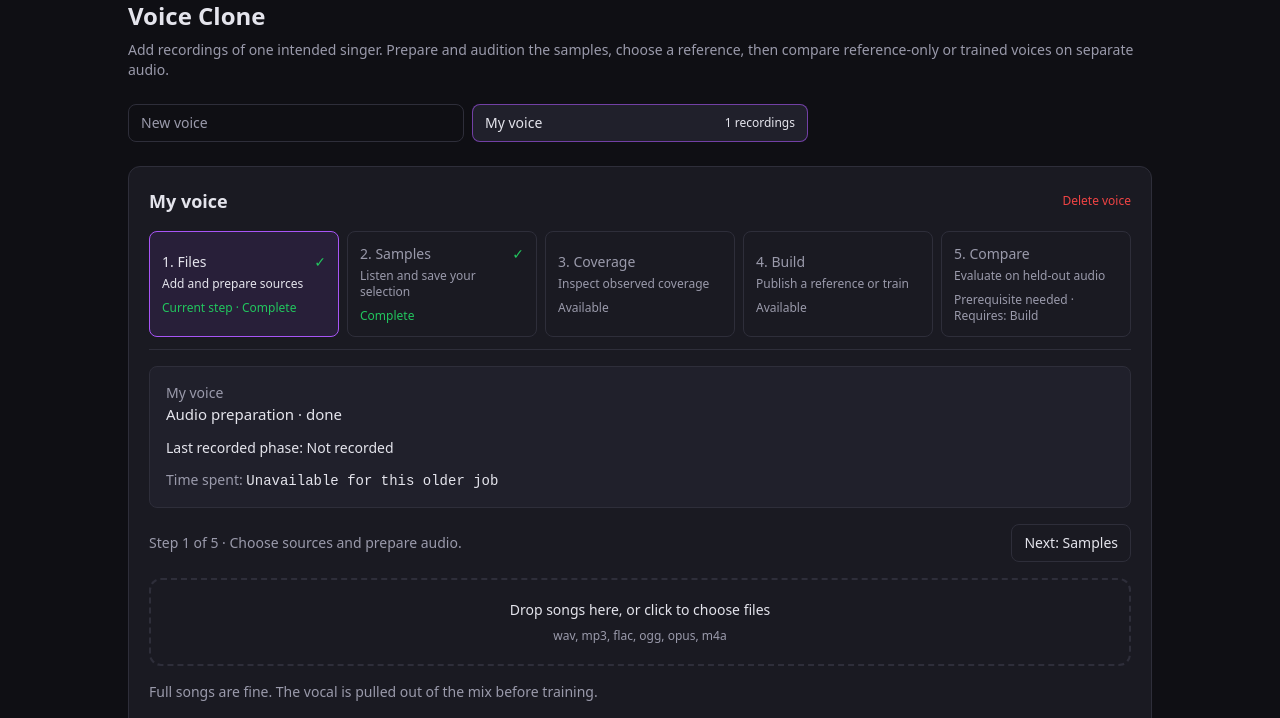
Test: requires saving draft selection before coverage and current-reference comparison
Click the tab "2. Samples ✓ Listen and save your selection Complete". click: (442, 284)
box: [347,231,537,337]
(page scrolled)
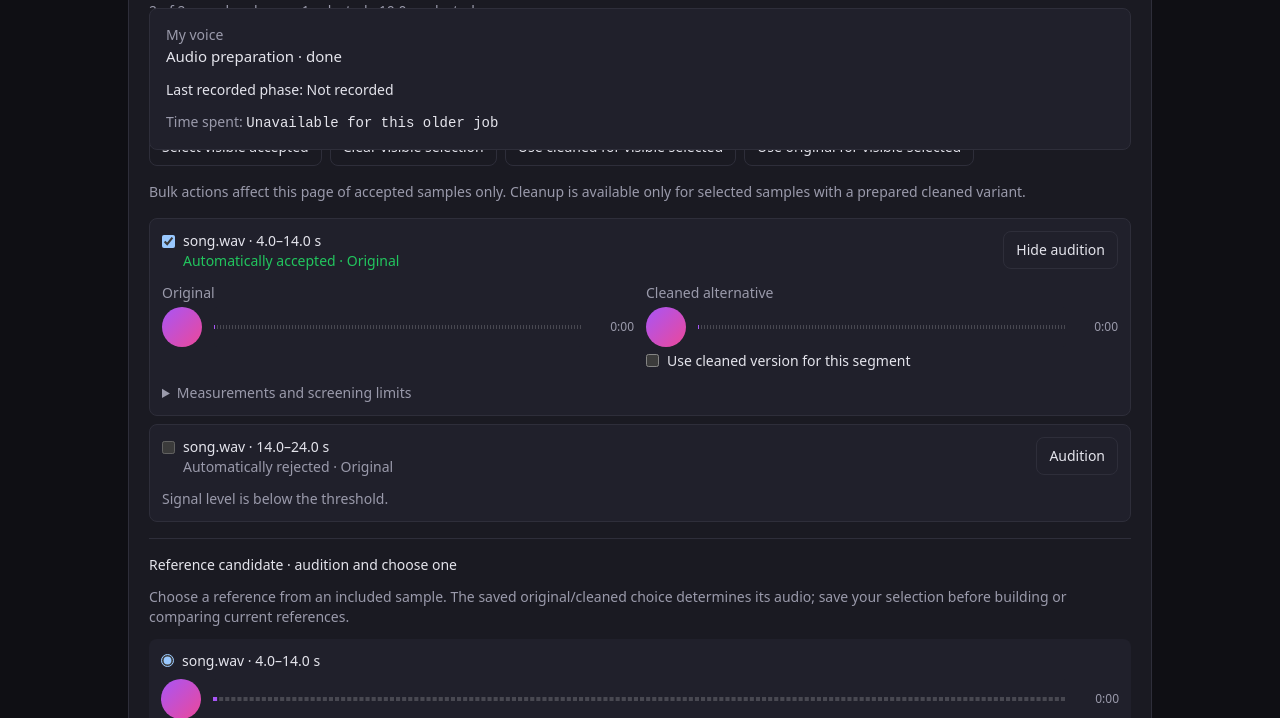
Click the checkbox labelled "Use cleaned version for this segment". click: (652, 360)
box: [646,354,659,367]
(page scrolled)
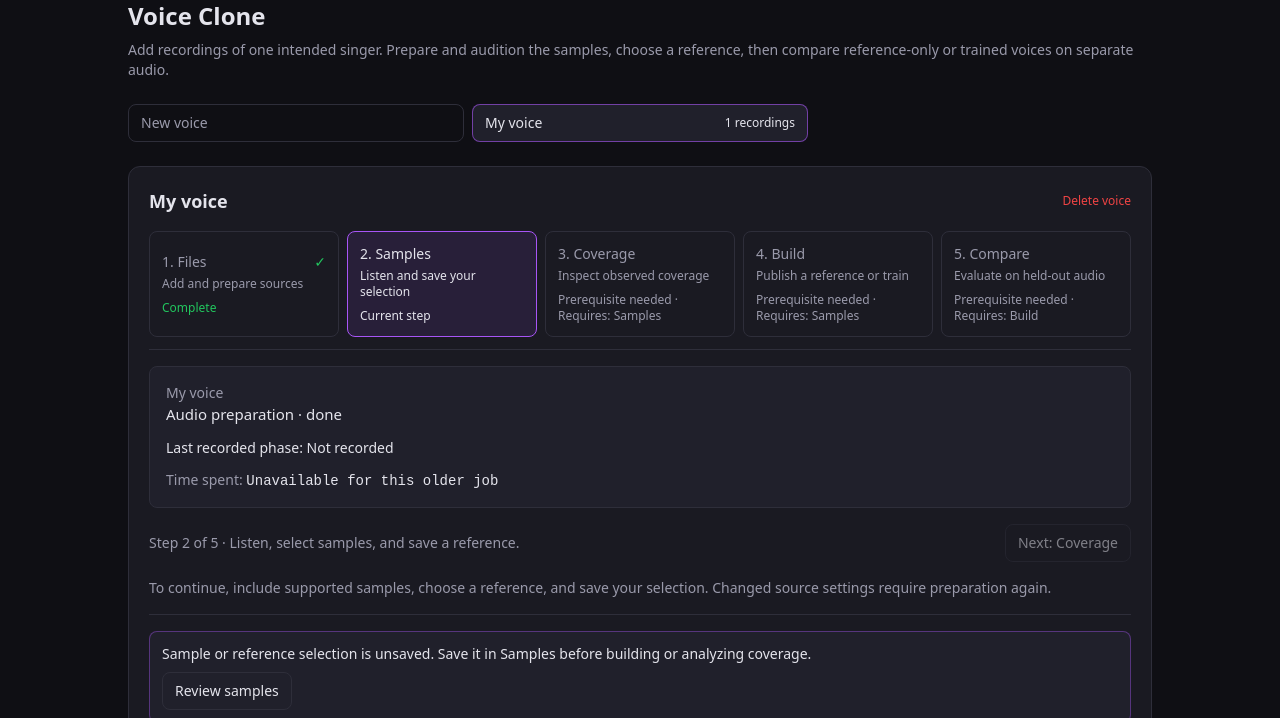
Click the tab with aria-label "Coverage". click: (640, 284)
box: [545,231,735,337]
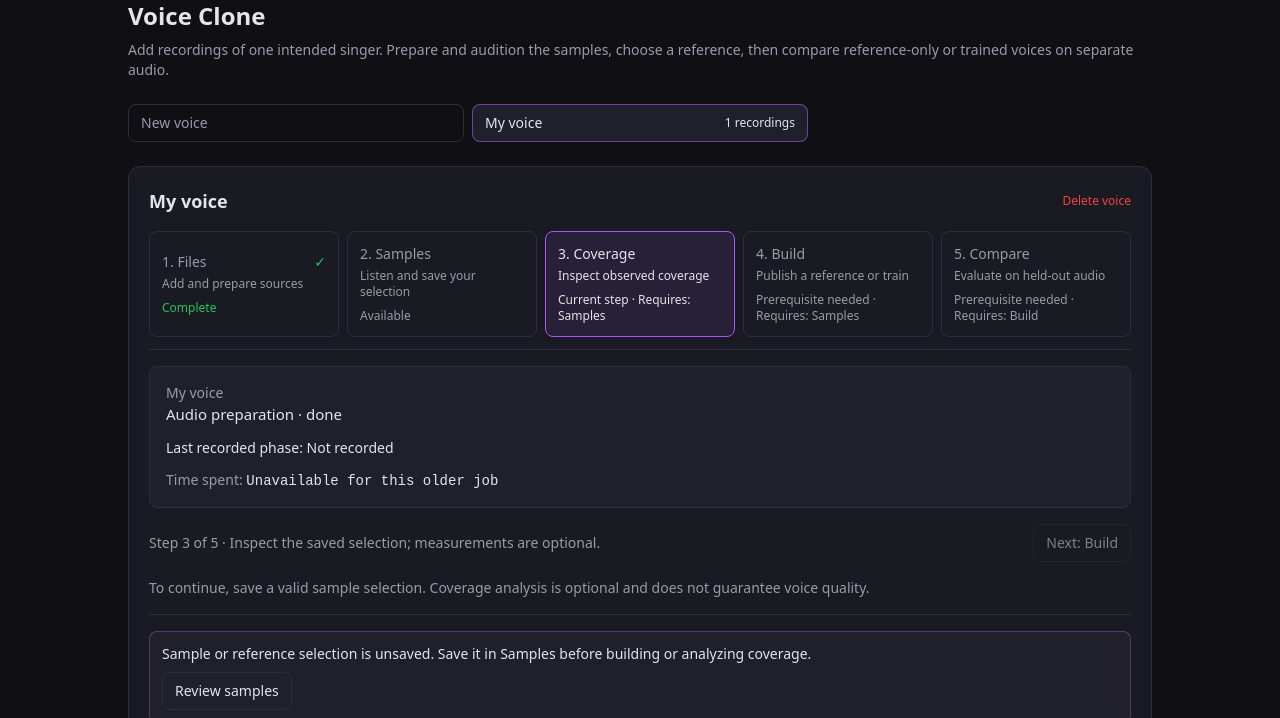
Click the tab with aria-label "Build". click: (838, 284)
box: [743,231,933,337]
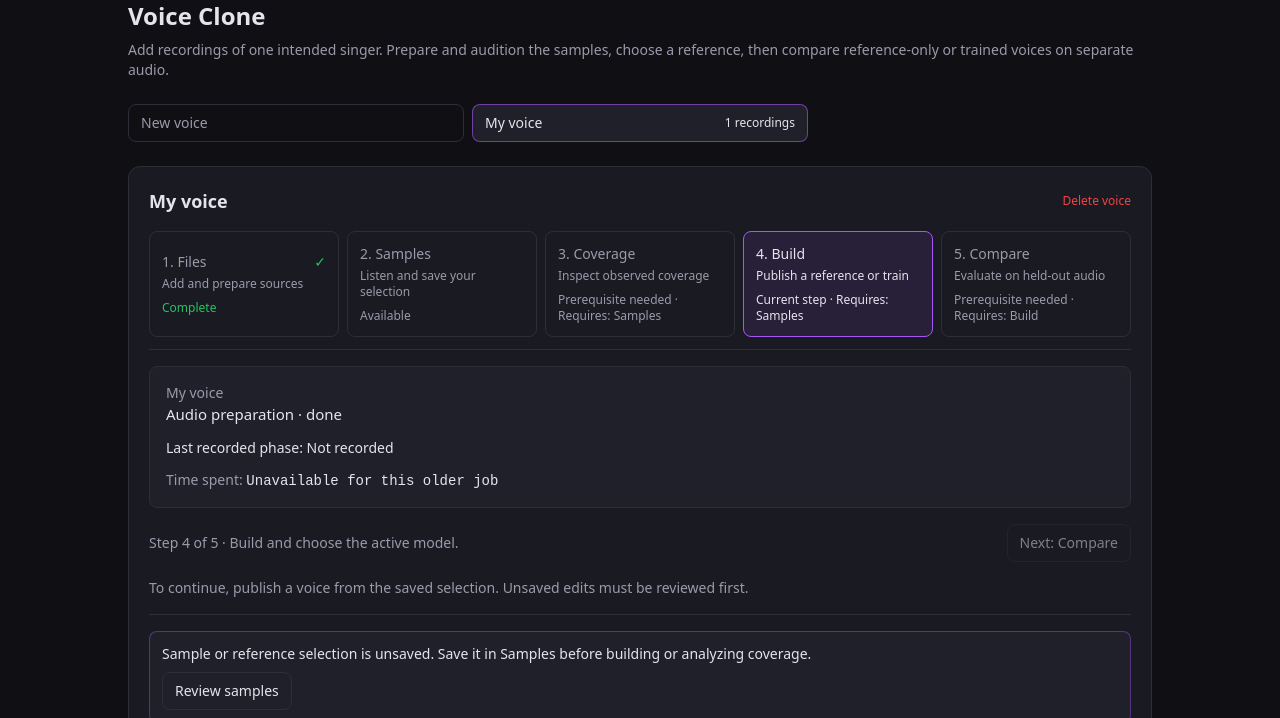
Click the tab with aria-label "Compare". click: (1036, 284)
box: [941,231,1131,337]
(page scrolled)
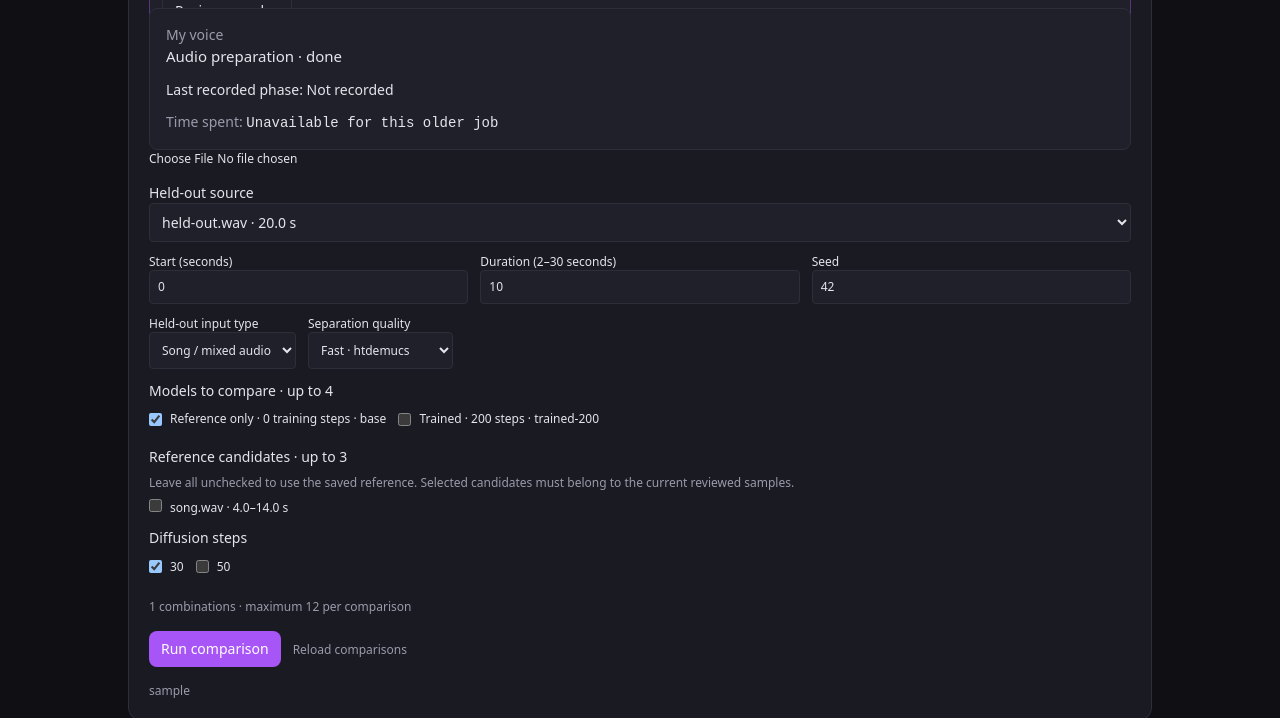
Now the button "Run comparison" is enabled, box [149,630,281,666]
Click the checkbox labelled "song.wav · 4.0–14.0 s". click: (156, 506)
box: [149,499,162,512]
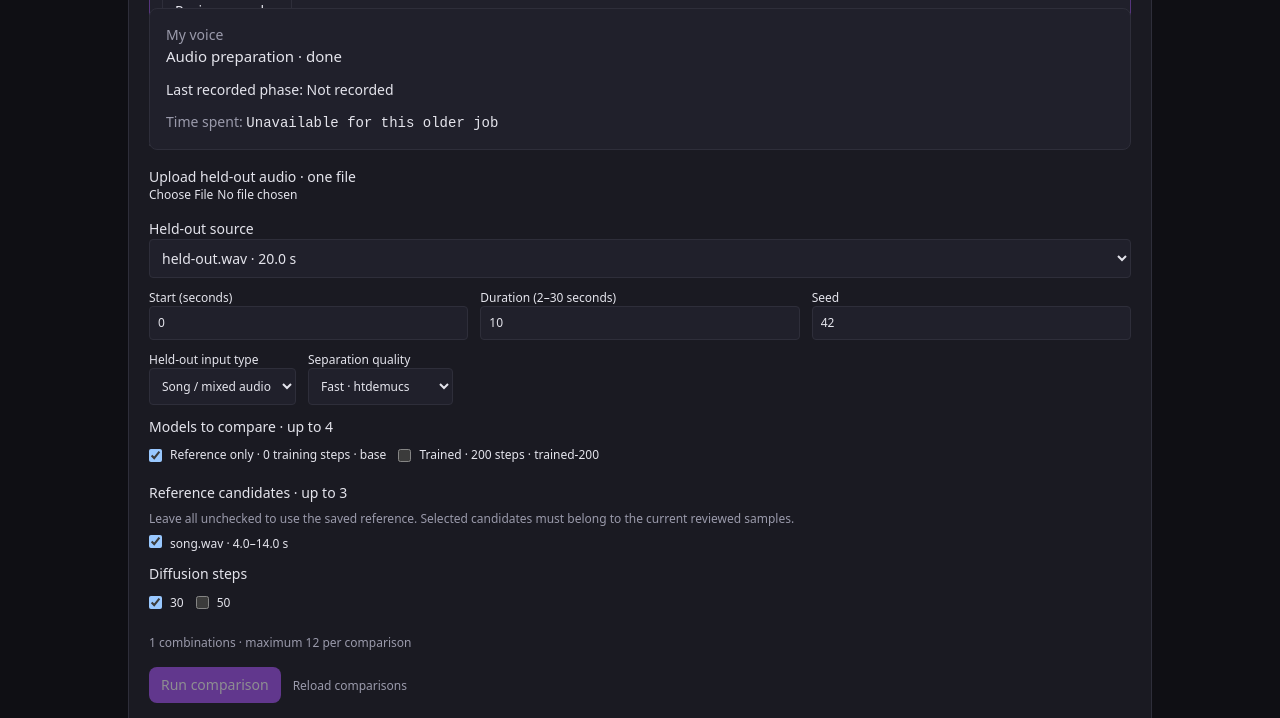
Now the button "Run comparison" is disabled, box [149,666,281,702]
